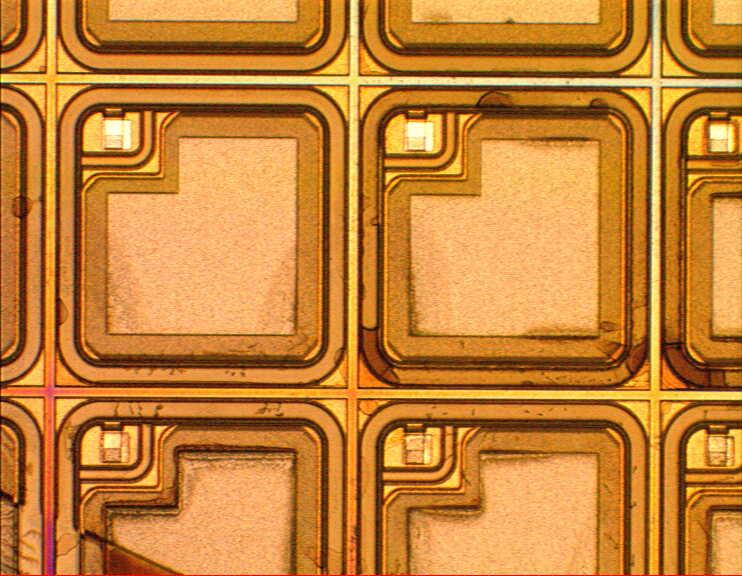SEZ BURNT: (1, 6, 742, 576)
